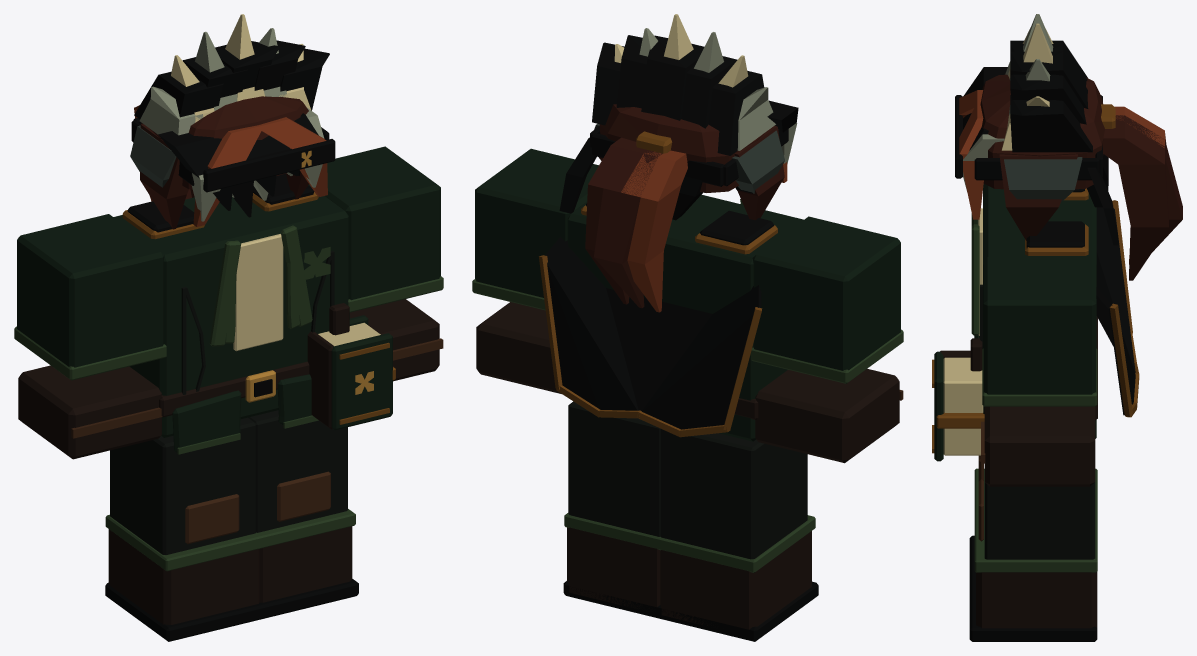
File: clover-customization-import.fbx
3 renders of one model, left to right at view 1: azimuth 30°, elevation 25°; view 2: azimuth 150°, elevation 25°; view 3: azimuth 270°, elevation 25°, orthographic.
Visible parts, largest first — view 1: outfit-forest-initiate-female-v1__Left_Arm, outfit-forest-initiate-female-v1__Left_Leg, outfit-forest-initiate-v1__Torso, outfit-forest-initiate-female-v1__Torso, outfit-forest-initiate-female-v1__Right_Arm, outfit-forest-initiate-female-v1__Right_Leg, hair-wind-swept-v1__Handle, accessory-grimoire-satchel-v1__Handle, hair-ember-ponytail-v1__Handle, hair-iron-spikes-v1__Handle, accessory-clover-headband-v1__Handle, accessory-black-mantle-v1__Handle; view 2: outfit-forest-initiate-female-v1__Left_Arm, accessory-black-mantle-v1__Handle, outfit-forest-initiate-female-v1__Left_Leg, hair-ember-ponytail-v1__Handle, outfit-forest-initiate-female-v1__Right_Leg, outfit-forest-initiate-female-v1__Right_Arm, hair-wind-swept-v1__Handle, outfit-forest-initiate-v1__Torso, outfit-forest-initiate-female-v1__Torso, hair-iron-spikes-v1__Handle, accessory-clover-headband-v1__Handle; view 3: outfit-forest-initiate-female-v1__Right_Arm, outfit-forest-initiate-female-v1__Right_Leg, hair-ember-ponytail-v1__Handle, hair-wind-swept-v1__Handle, accessory-black-mantle-v1__Handle, accessory-grimoire-satchel-v1__Handle, hair-iron-spikes-v1__Handle, outfit-forest-initiate-v1__Torso, accessory-clover-headband-v1__Handle, outfit-forest-initiate-female-v1__Torso, outfit-forest-initiate-female-v1__Left_Leg.
Part boxes in pixels (x1,y1,x2,y2): outfit-forest-initiate-female-v1__Left_Arm: (14, 214, 166, 459); outfit-forest-initiate-female-v1__Left_Leg: (105, 417, 266, 641); outfit-forest-initiate-v1__Torso: (113, 184, 349, 450); outfit-forest-initiate-female-v1__Torso: (114, 204, 348, 454); outfit-forest-initiate-female-v1__Right_Arm: (309, 146, 443, 381); outfit-forest-initiate-female-v1__Right_Leg: (248, 410, 358, 619); hair-wind-swept-v1__Handle: (134, 40, 329, 217); accessory-grimoire-satchel-v1__Handle: (307, 303, 395, 430); hair-ember-ponytail-v1__Handle: (134, 96, 327, 229); hair-iron-spikes-v1__Handle: (130, 14, 324, 221); accessory-clover-headband-v1__Handle: (131, 118, 335, 192); accessory-black-mantle-v1__Handle: (122, 173, 318, 239); outfit-forest-initiate-female-v1__Left_Arm: (750, 216, 903, 463); accessory-black-mantle-v1__Handle: (538, 203, 777, 437); outfit-forest-initiate-female-v1__Left_Leg: (656, 429, 818, 641); hair-ember-ponytail-v1__Handle: (585, 104, 787, 312); outfit-forest-initiate-female-v1__Right_Leg: (563, 401, 661, 618); outfit-forest-initiate-female-v1__Right_Arm: (472, 148, 598, 393); hair-wind-swept-v1__Handle: (592, 35, 798, 220); outfit-forest-initiate-v1__Torso: (568, 194, 803, 441); outfit-forest-initiate-female-v1__Torso: (567, 199, 797, 439); hair-iron-spikes-v1__Handle: (594, 14, 797, 193); accessory-clover-headband-v1__Handle: (559, 126, 788, 213); outfit-forest-initiate-female-v1__Right_Arm: (981, 257, 1097, 486); outfit-forest-initiate-female-v1__Right_Leg: (969, 479, 1097, 641); hair-ember-ponytail-v1__Handle: (959, 74, 1182, 280); hair-wind-swept-v1__Handle: (963, 40, 1108, 207); accessory-black-mantle-v1__Handle: (1025, 188, 1139, 417); accessory-grimoire-satchel-v1__Handle: (932, 338, 984, 461); hair-iron-spikes-v1__Handle: (963, 14, 1082, 202); outfit-forest-initiate-v1__Torso: (971, 184, 1097, 438); accessory-clover-headband-v1__Handle: (955, 95, 1118, 245); outfit-forest-initiate-female-v1__Torso: (971, 184, 1097, 393); outfit-forest-initiate-female-v1__Left_Leg: (969, 455, 1097, 584).
Size of the model in its own units: 409 by 603 by 237.
1 material, 1 textured.
